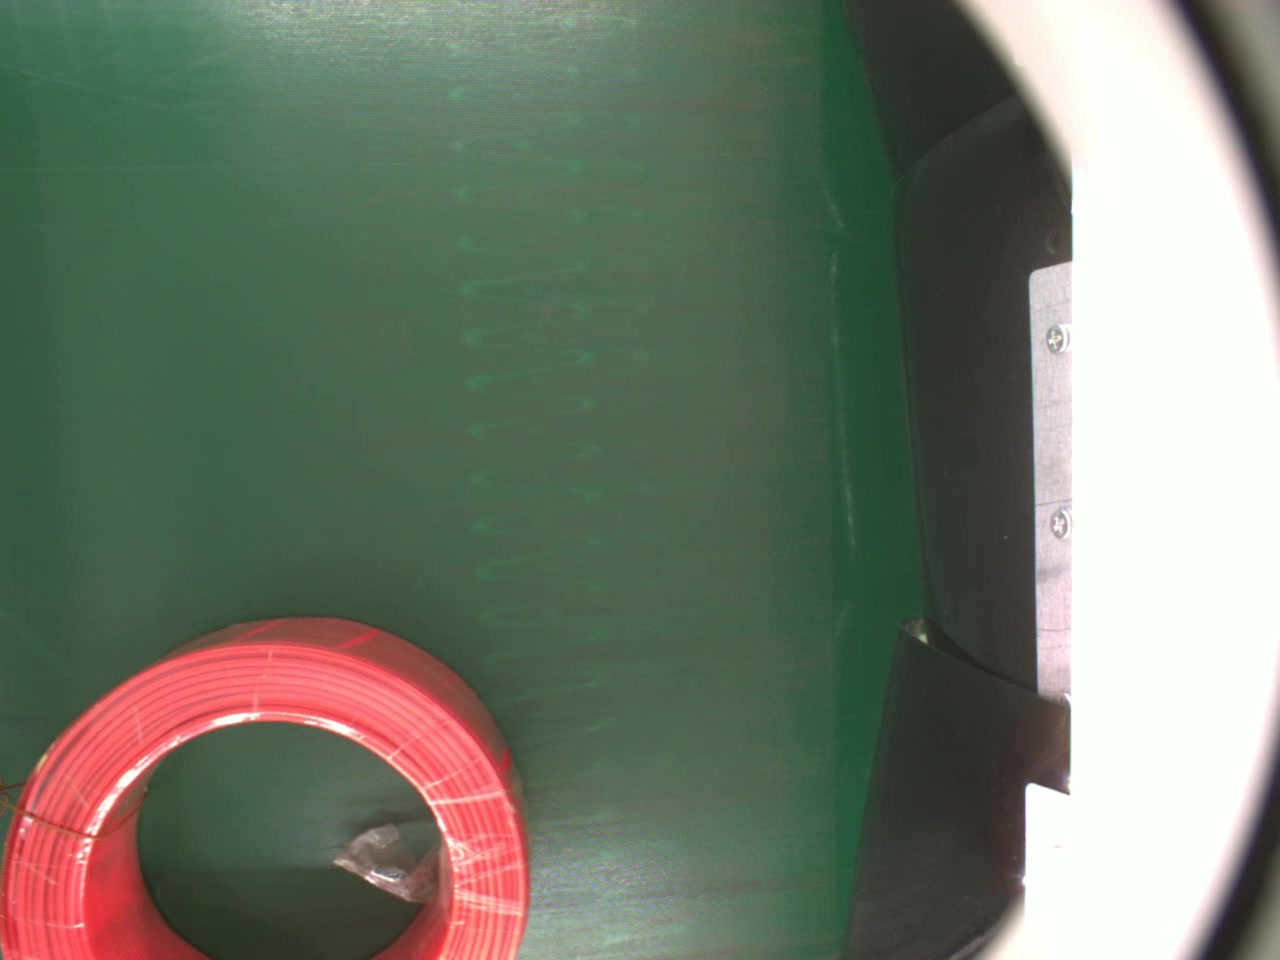red: (0, 616, 528, 960)
